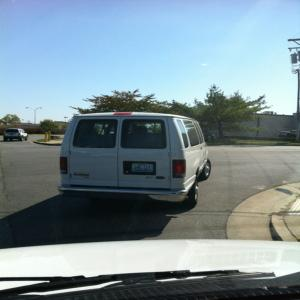Vehicle-registration-plate: (132, 164, 154, 173)
